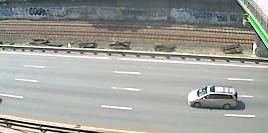car: (184, 82, 242, 111)
